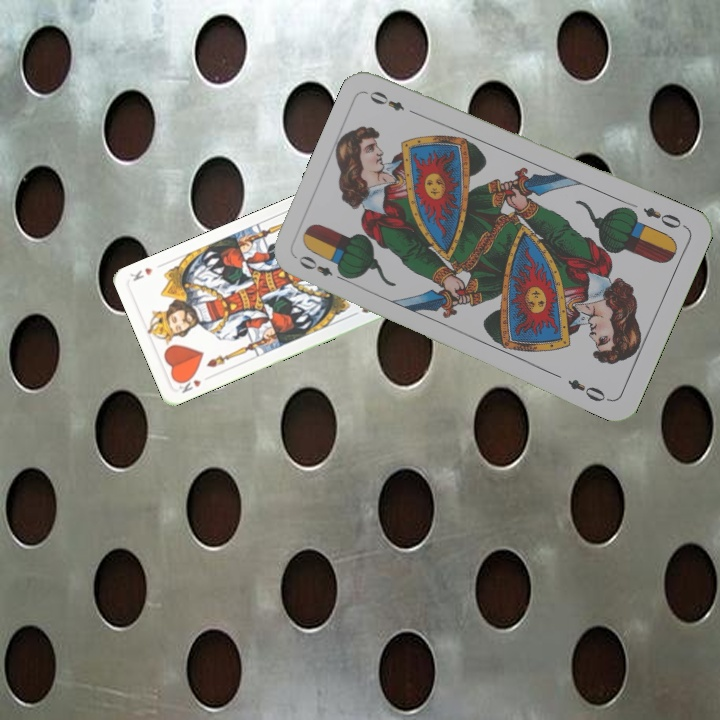EO: (294, 251, 350, 284), (639, 203, 689, 231)
HK: (172, 371, 204, 396)
